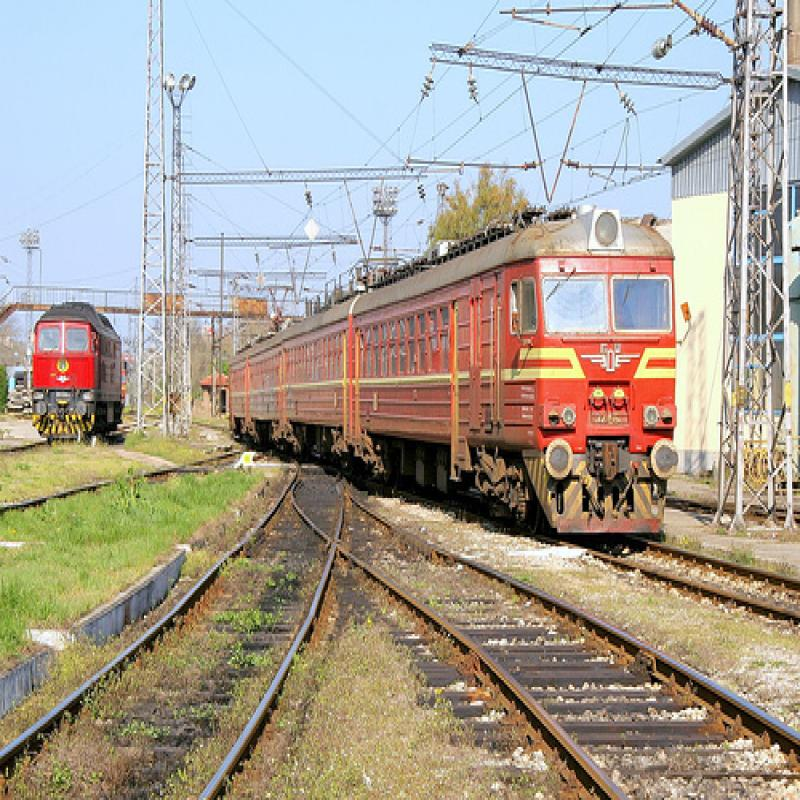train: (229, 204, 680, 538), (25, 301, 127, 451)
